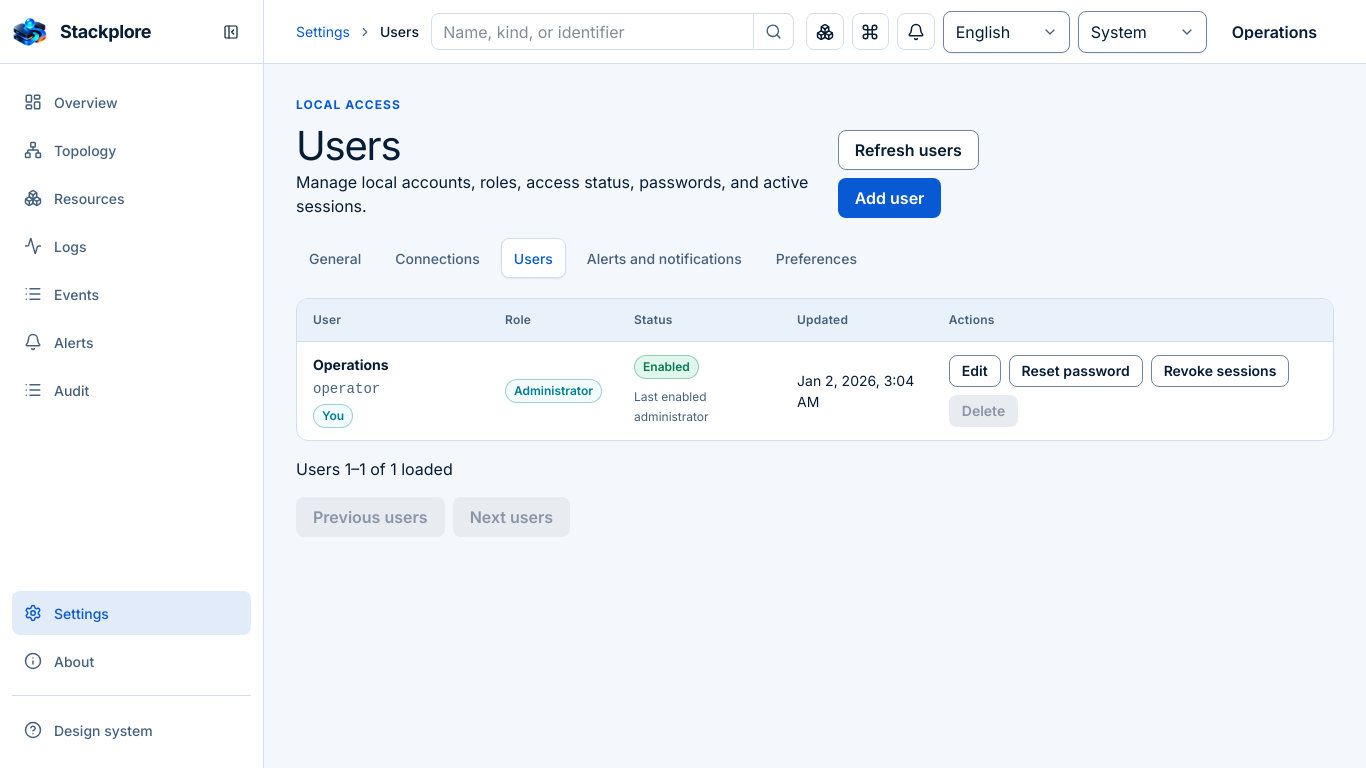
Scenario: user administration flow › creates a user through one reviewed dialog and refreshes the list
Expected: the 1st text "Operations" is shown, [1232,24,1317,40]
Click the button "Add user" at (890, 198), box [838,178,942,218]
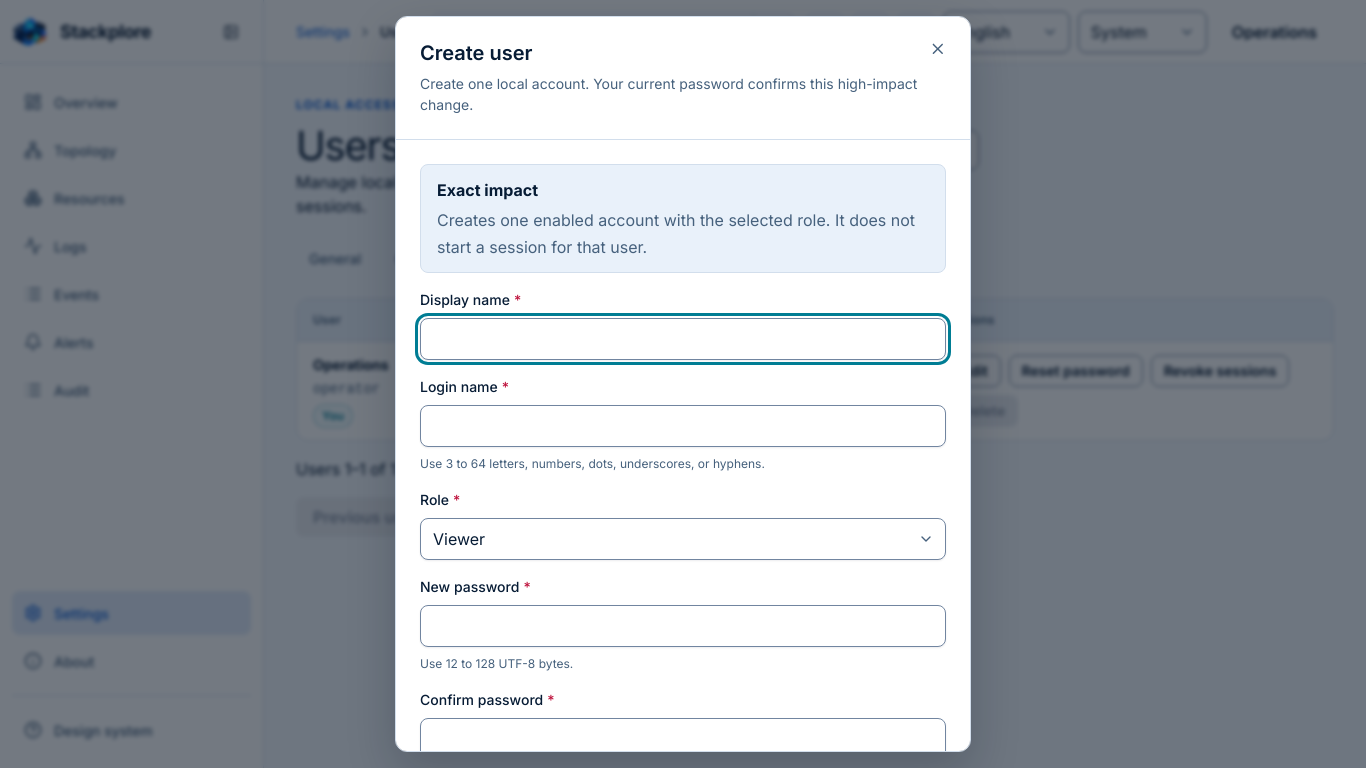
Now the text "Exact impact" is shown, box [437,180,538,200]
Type "Observer" into the field labelled "Display name*" at (683, 339), box [420,318,946,360]
Type "observer" into the field labelled "Login name*" at (683, 426), box [420,405,946,447]
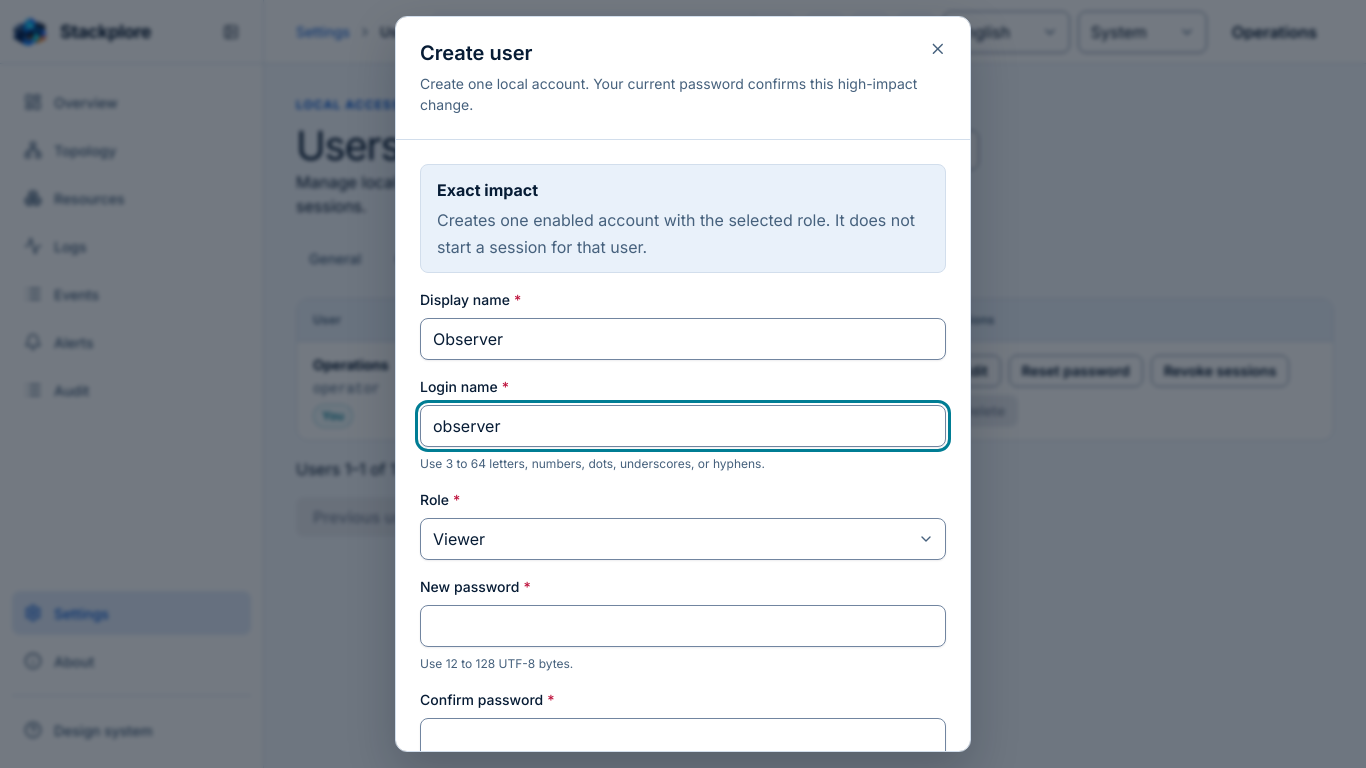
Type "viewer-password" into the password field labelled "New password*" at (683, 626), box [420,605,946,647]
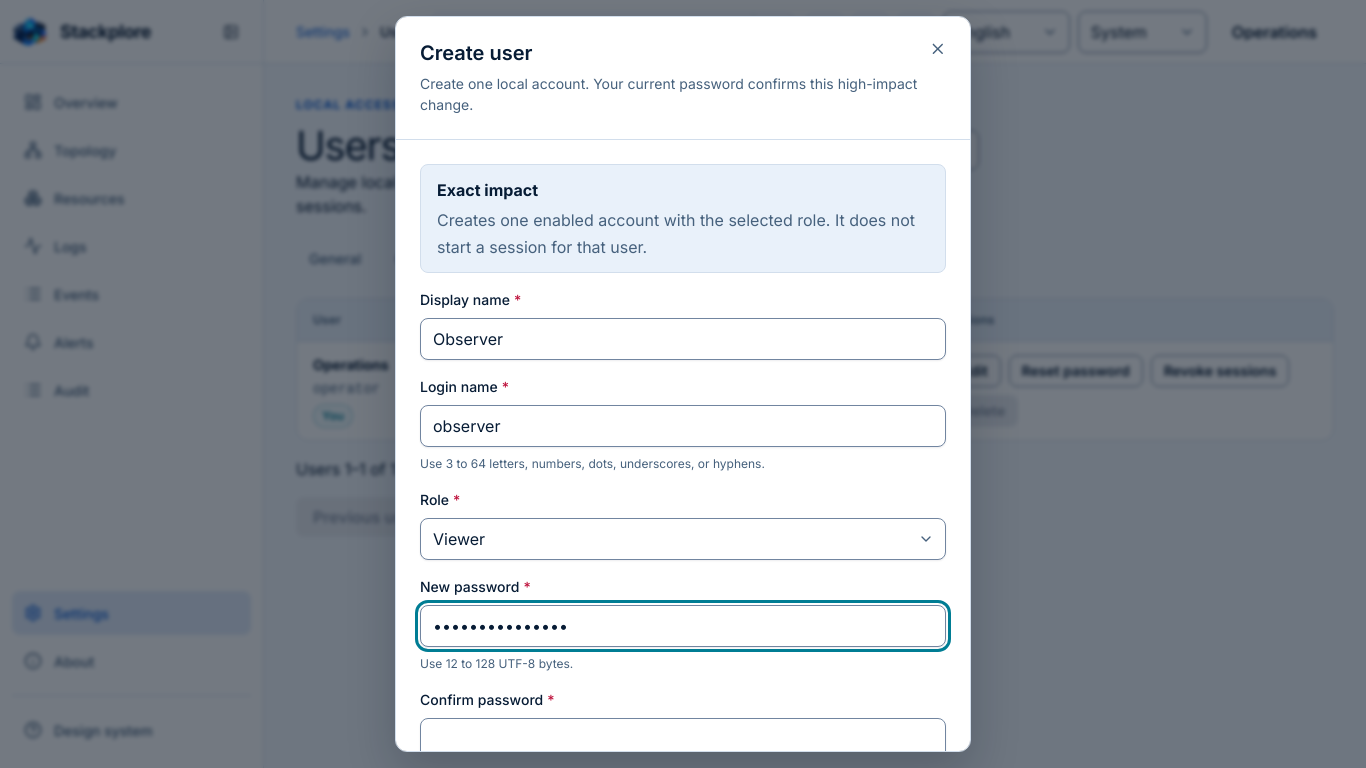
Type "viewer-password" into the password field labelled "Confirm password*" at (683, 739), box [420,718,946,760]
(page scrolled)
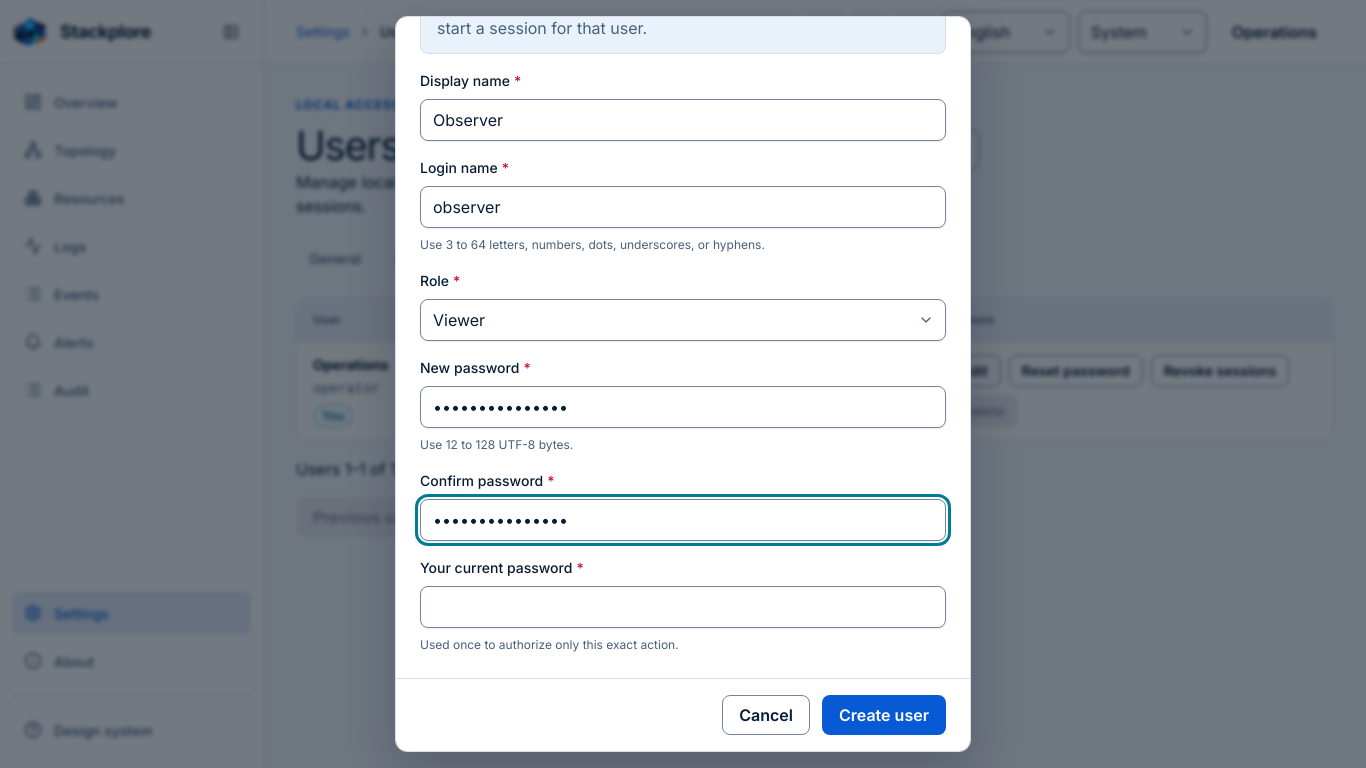
Type "admin-password" into the password field labelled "Your current password*" at (683, 607), box [420,586,946,628]
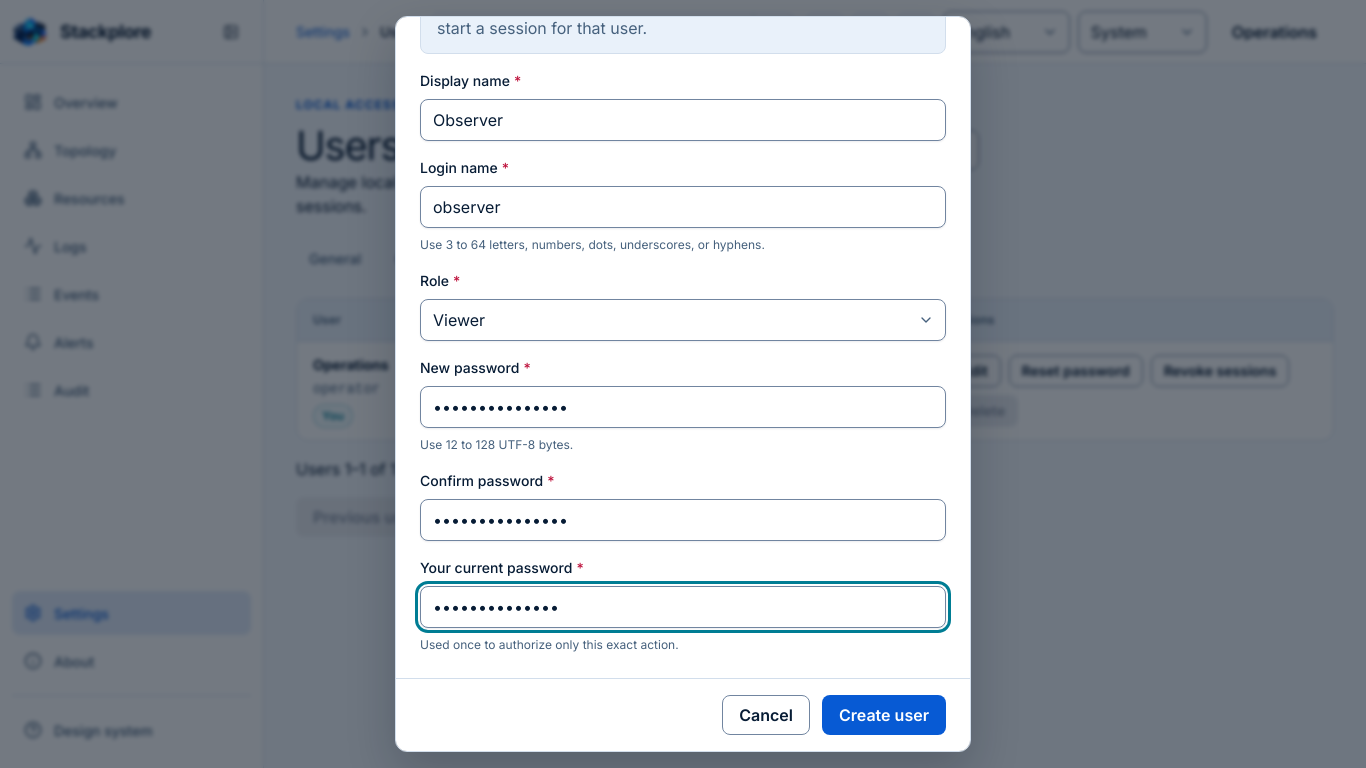
Click the button "Create user" at (884, 715), box [822,695,946,735]
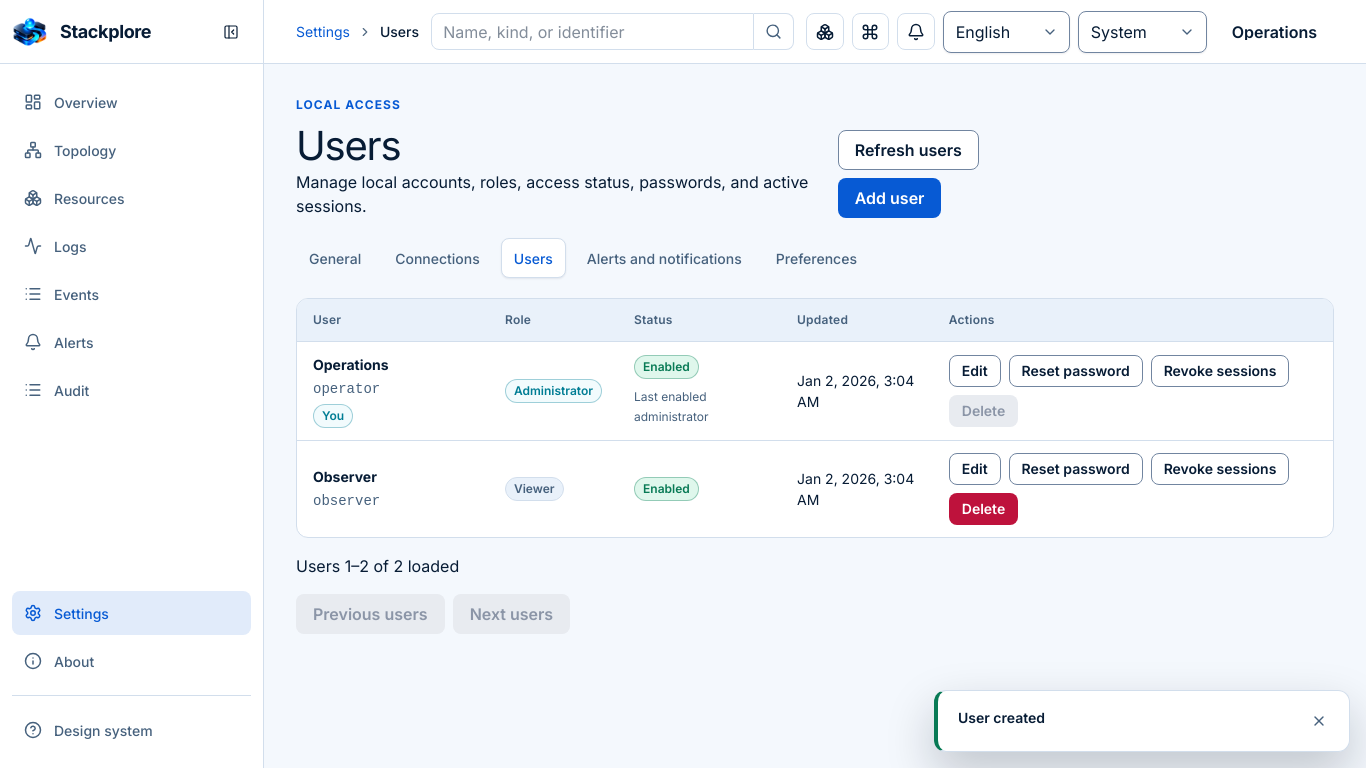
Now the text "Observer" is shown, box [313,466,377,487]
